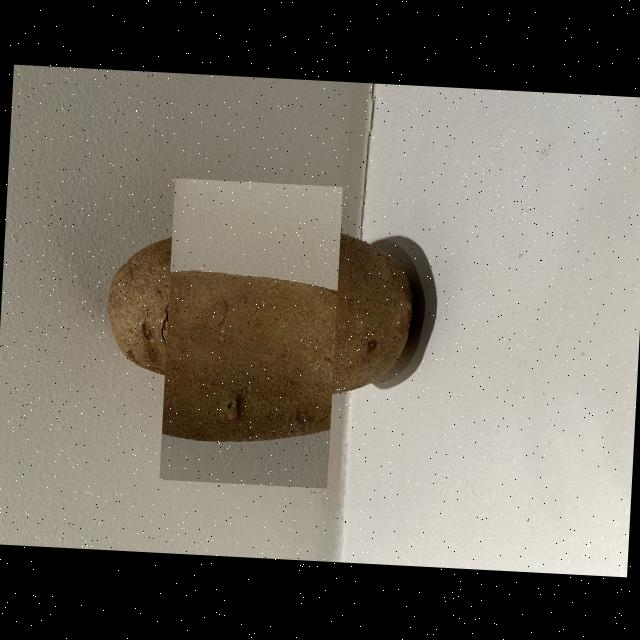Diseased-fungal potato: (158, 178, 342, 488)
